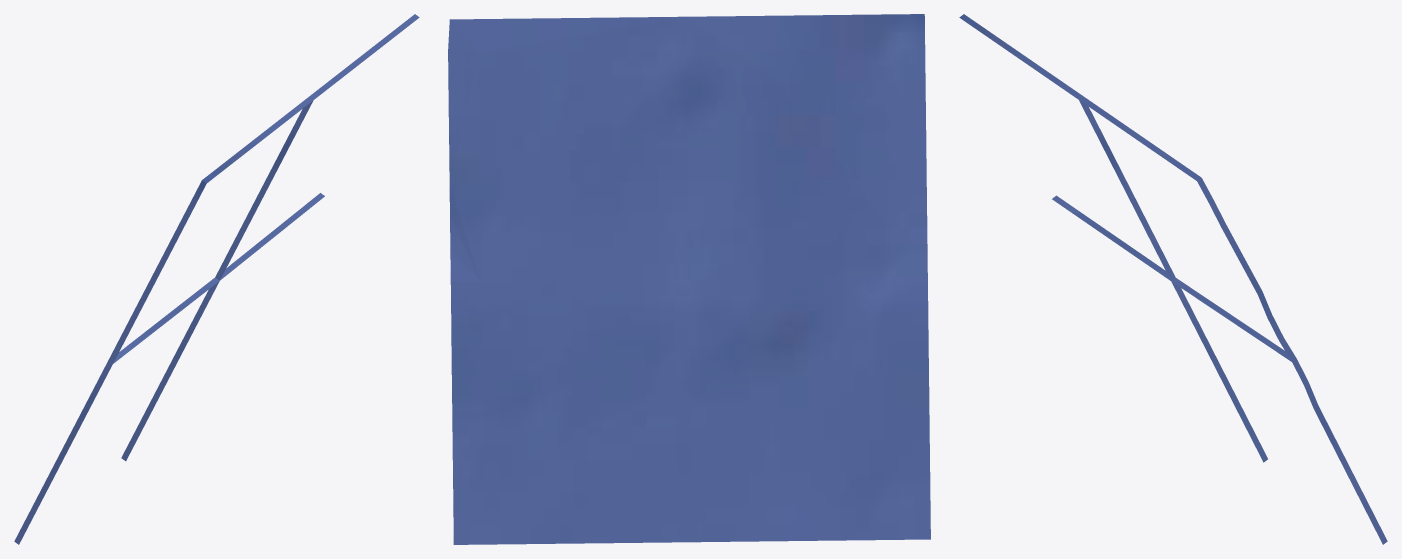
3 views of the same model, side by side, from view 1: azimuth 30°, elevation 25°; view 2: azimuth 150°, elevation 25°; view 3: azimuth 270°, elevation 25° (orthographic). The views are drawn at different scales.
Size of the model in its own units: 19643 by 17788 by 16711.
1 material, 1 textured.
